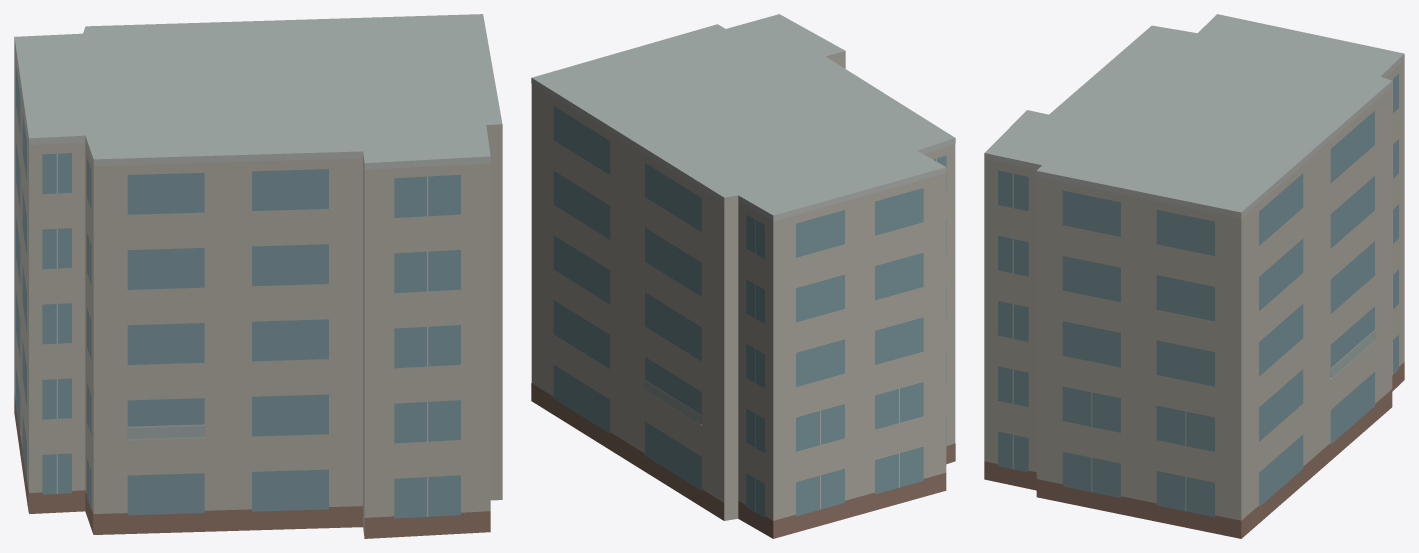
The model's file is survey-upis-32951771.glb.
3 renders of one model, left to right at view 1: azimuth 30°, elevation 25°; view 2: azimuth 150°, elevation 25°; view 3: azimuth 270°, elevation 25°, orthographic. The views are drawn at different scales.
Parts seen in each view (by area): view 1: survey-upis-32951771.tmp; view 2: survey-upis-32951771.tmp; view 3: survey-upis-32951771.tmp.
Part boxes in pixels (box(x1,y1,x2,y2)): survey-upis-32951771.tmp: box(14, 14, 502, 538); survey-upis-32951771.tmp: box(531, 14, 955, 538); survey-upis-32951771.tmp: box(984, 14, 1404, 538).
Size of the model in its own units: 17.81 by 13.65 by 15.93.
